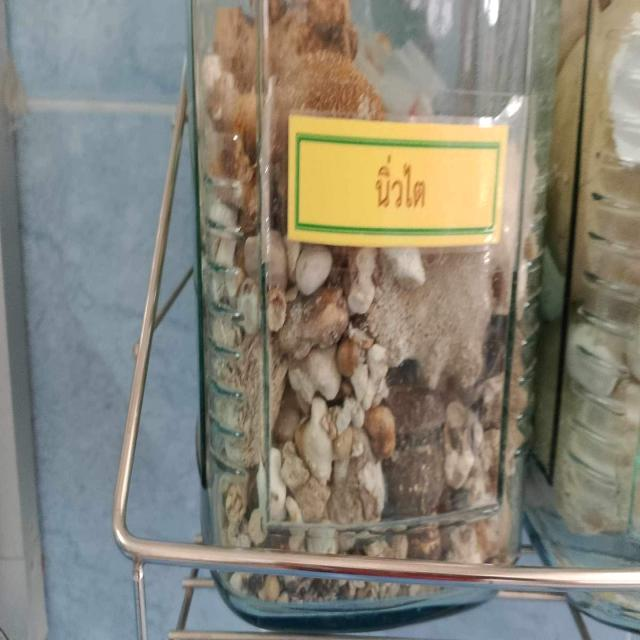Infectious: (192, 0, 554, 603)
